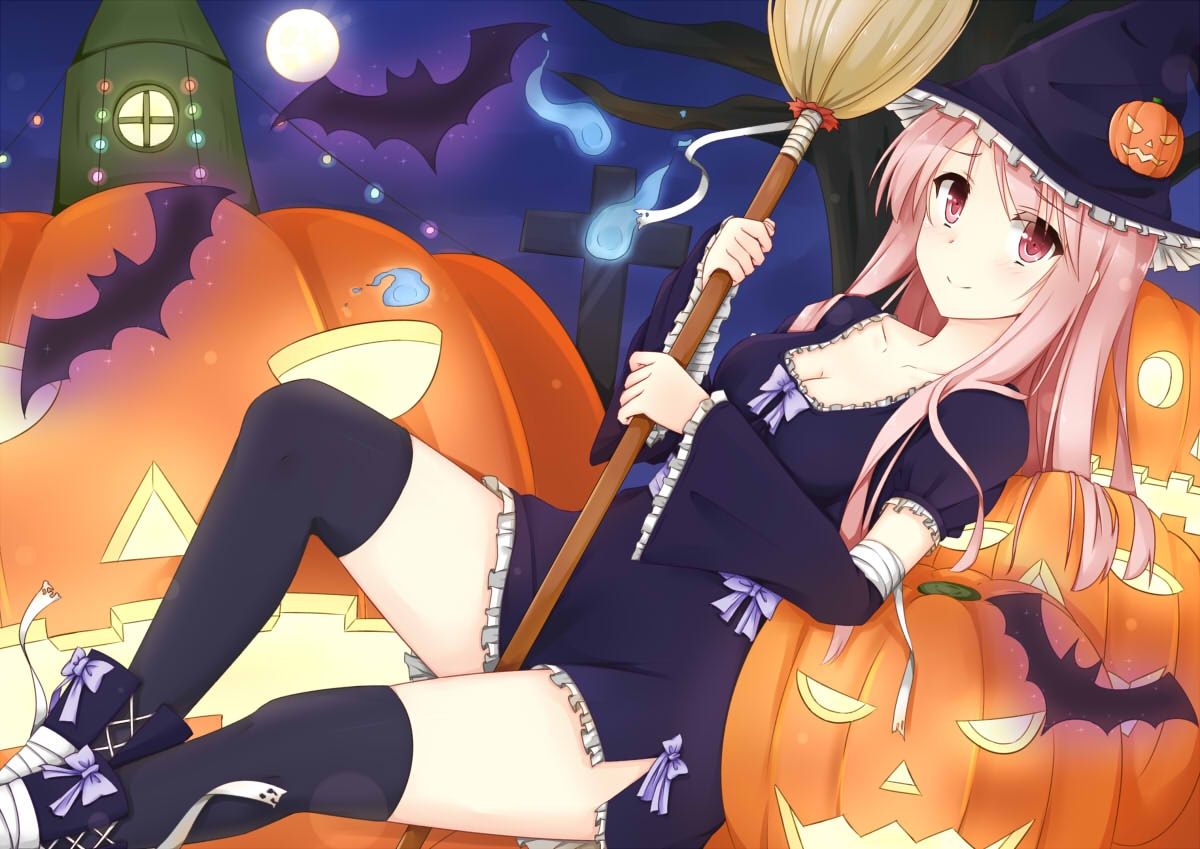纸片人正脸: (863, 62, 1174, 330)
